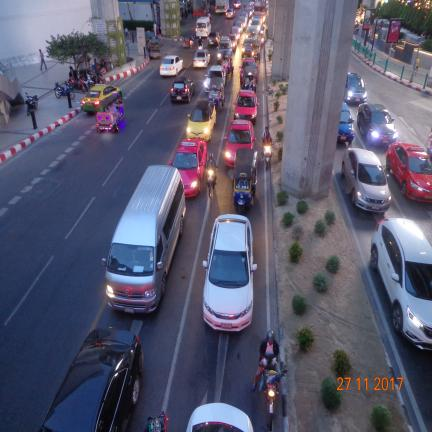car: (39, 328, 143, 432), (371, 218, 432, 350), (203, 214, 256, 331), (341, 148, 391, 212), (386, 143, 432, 202), (186, 403, 253, 432), (357, 104, 397, 145), (187, 99, 216, 141), (344, 73, 367, 104), (338, 102, 354, 144), (171, 76, 195, 103), (204, 65, 226, 92), (160, 56, 183, 76), (239, 57, 257, 82), (217, 36, 232, 64), (193, 49, 210, 68), (242, 38, 254, 57), (207, 31, 221, 46), (252, 39, 262, 60), (229, 26, 241, 41), (228, 34, 237, 52), (233, 21, 243, 34), (238, 16, 247, 30), (245, 7, 253, 20), (251, 17, 261, 27), (225, 9, 235, 18), (233, 0, 241, 9), (260, 25, 265, 37), (240, 11, 248, 18), (248, 1, 254, 9)
human: (251, 330, 279, 391), (144, 411, 168, 432), (261, 126, 273, 159), (206, 153, 217, 187), (39, 49, 47, 70), (238, 178, 249, 190), (415, 55, 420, 71), (153, 22, 158, 37), (124, 28, 129, 40)
motorbike: (264, 368, 287, 431), (54, 81, 75, 99), (25, 92, 38, 116), (263, 143, 272, 170), (207, 169, 215, 197), (78, 75, 88, 93), (85, 73, 95, 89), (67, 77, 79, 89), (183, 38, 193, 48), (198, 37, 203, 49)
taxi: (168, 138, 207, 197), (224, 120, 256, 167), (82, 84, 122, 112), (234, 90, 259, 124), (239, 57, 257, 82), (246, 25, 260, 39), (229, 26, 241, 41)
truck: (254, 0, 267, 15), (215, 0, 229, 13)
van: (103, 165, 185, 312), (195, 17, 211, 37)
